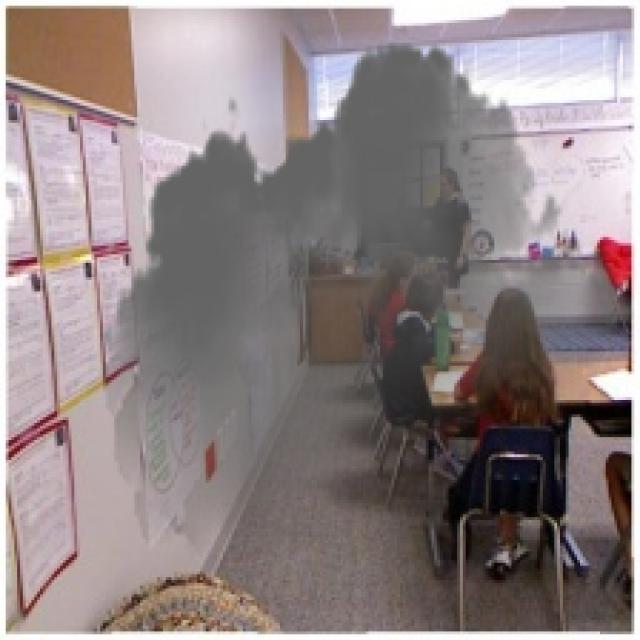smoke: (103, 23, 634, 574)
